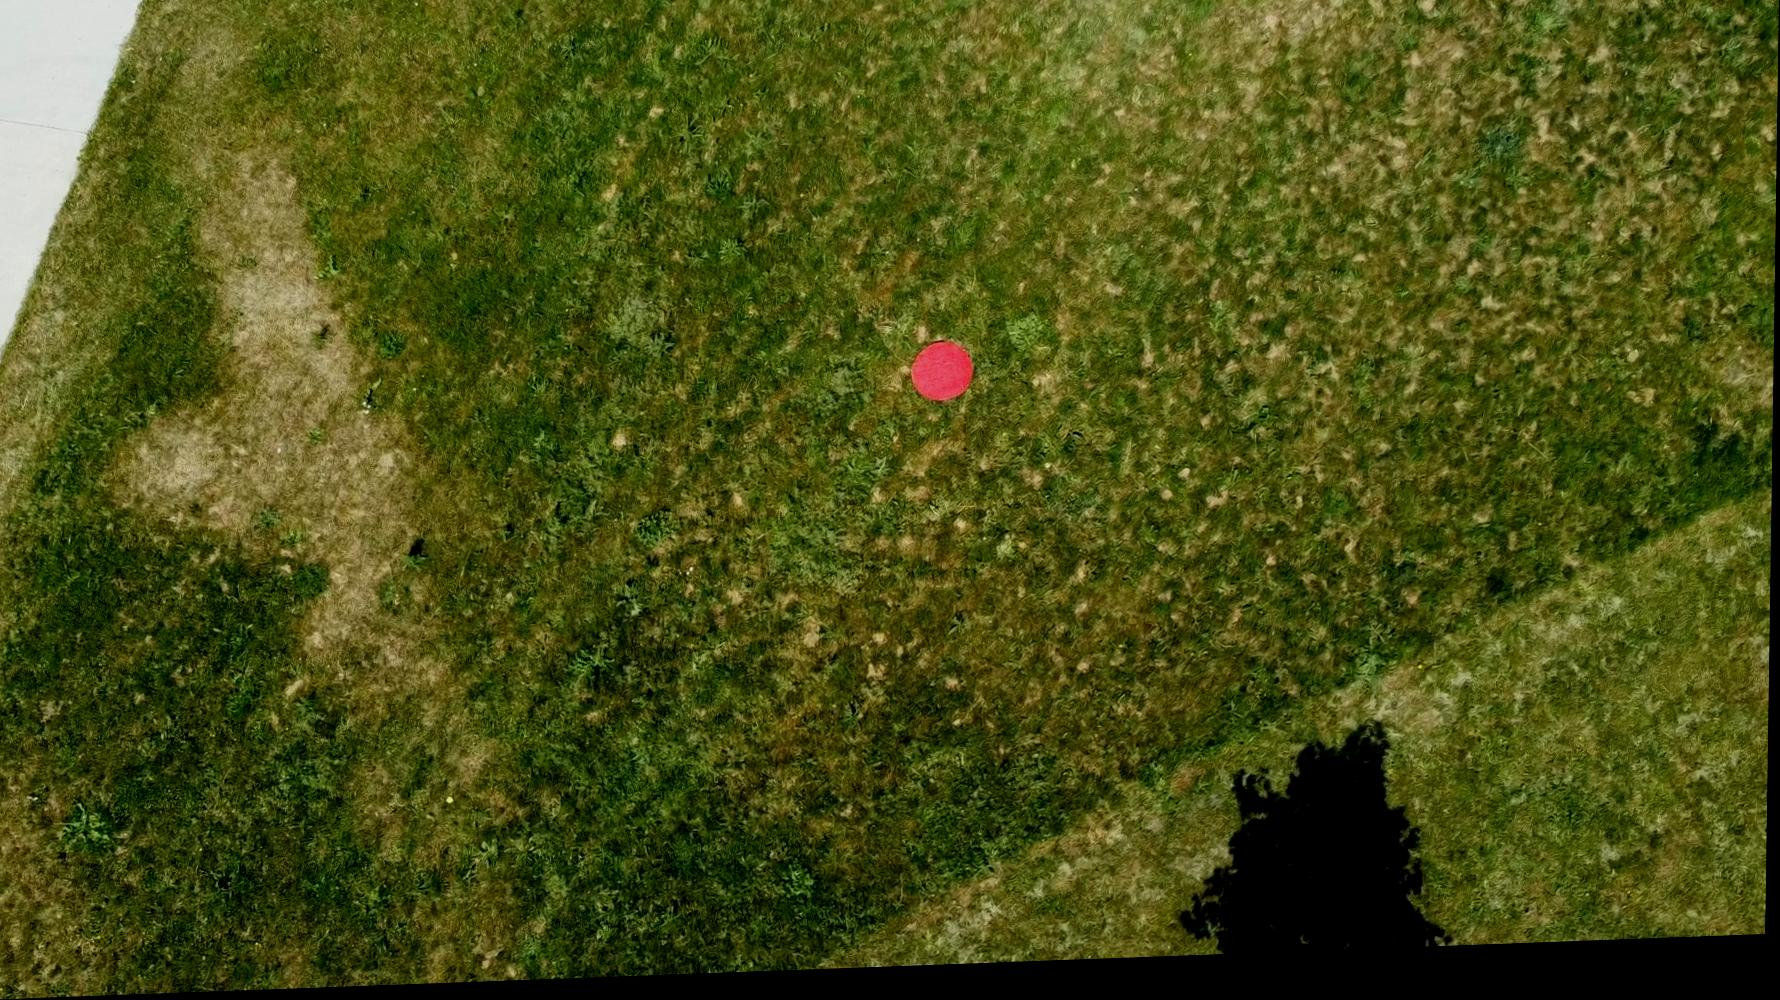Red: (910, 345, 978, 413)
